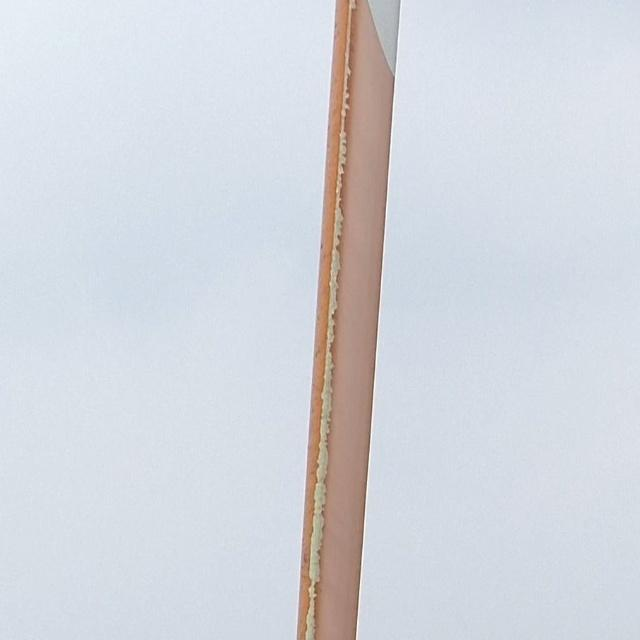PU-tape: (306, 0, 357, 640)
